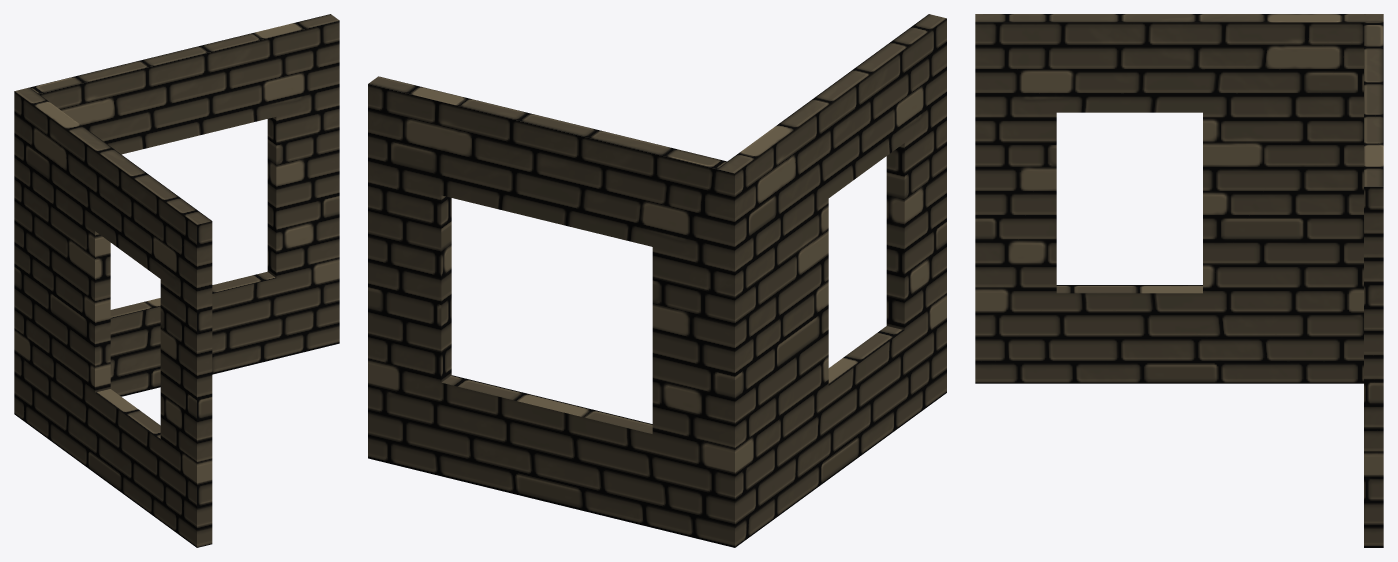
Rendered from Wall_2_Corner_G.fbx.
3 renders of one model, left to right at view 1: azimuth 30°, elevation 25°; view 2: azimuth 150°, elevation 25°; view 3: azimuth 270°, elevation 25°, orthographic. The views are drawn at different scales.
Visible parts, largest first — view 1: polySurface17; view 2: polySurface17; view 3: polySurface17.
Part boxes in pixels (bbox=[...]): polySurface17: bbox=[14, 14, 339, 547]; polySurface17: bbox=[368, 14, 946, 547]; polySurface17: bbox=[975, 14, 1383, 547].
Bounding box in the file's own units: 4.1 × 4 × 4.1.
